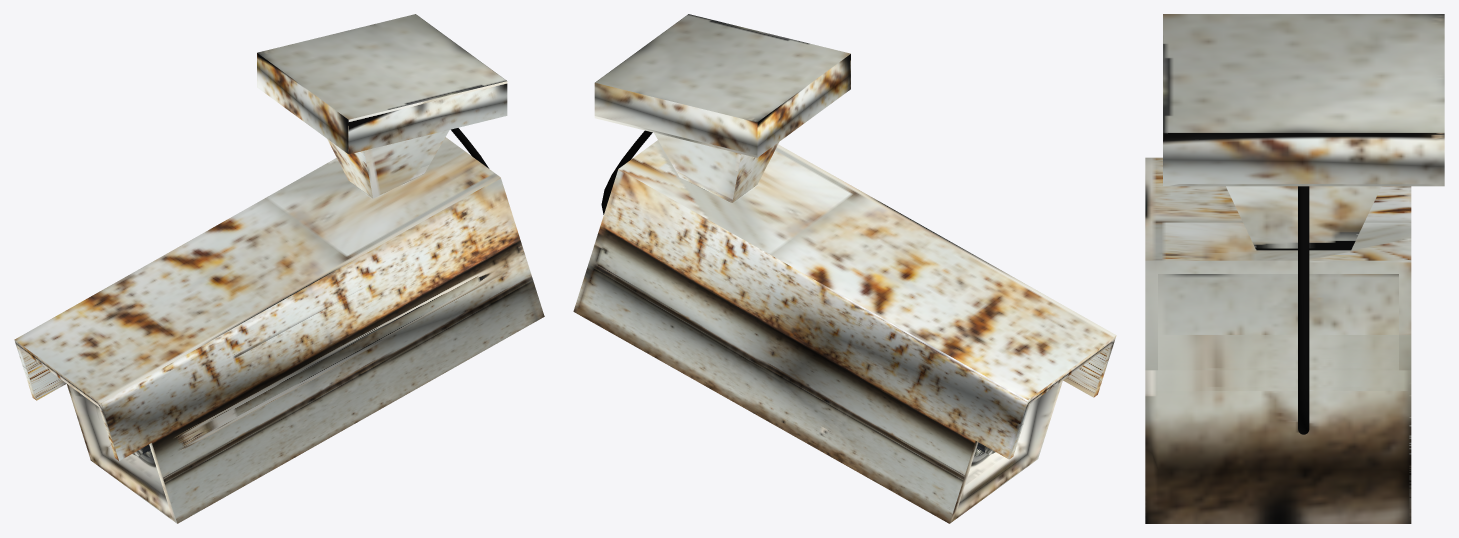
File: cctv_psx_camera.glb
3 views of the same model, side by side, from view 1: azimuth 30°, elevation 25°; view 2: azimuth 150°, elevation 25°; view 3: azimuth 270°, elevation 25° (orthographic). The views are drawn at different scales.
Parts seen in each view (by area): view 1: CCTV; view 2: CCTV; view 3: CCTV.
Boxes of the visible parts, x1=… form: CCTV: x1=14, y1=14, x2=544, y2=523; CCTV: x1=573, y1=14, x2=1116, y2=523; CCTV: x1=1145, y1=14, x2=1444, y2=523.
Size of the model in its own units: 0.5563 by 0.4206 by 0.208.
1 material, 1 textured.
